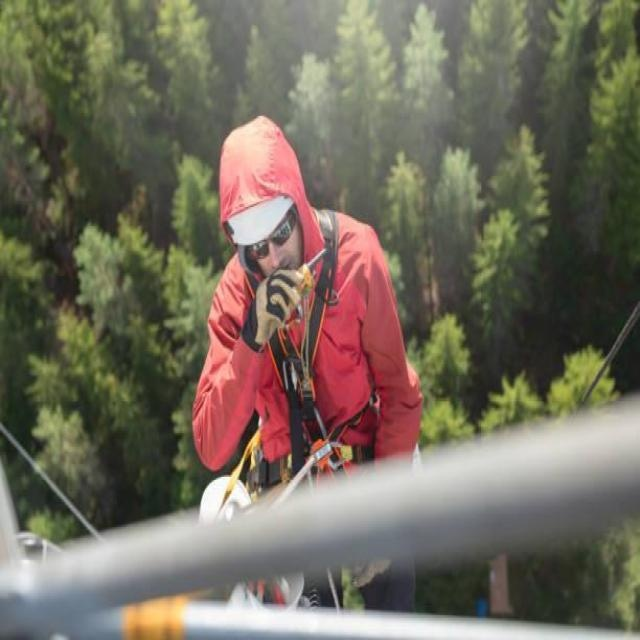Arnes_seguridad: (240, 201, 397, 520)
